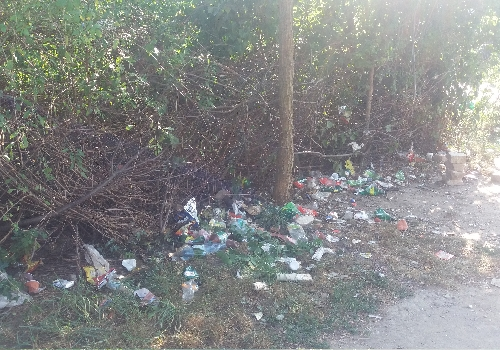trash: (76, 151, 447, 299)
